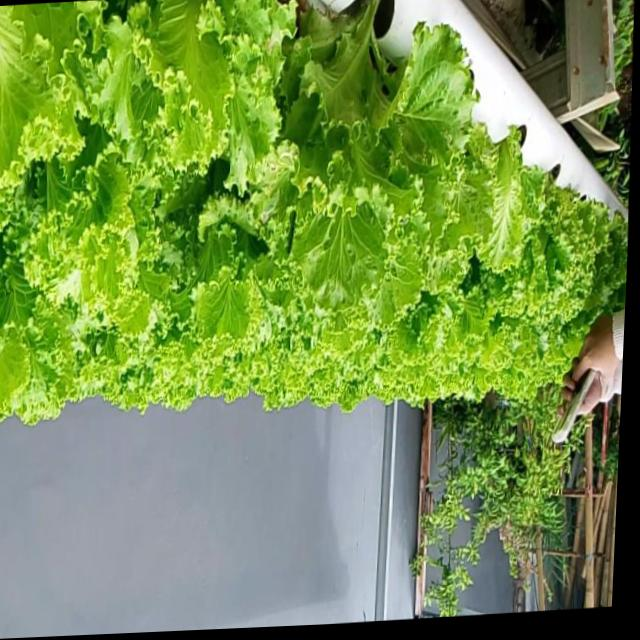Mature: (0, 0, 627, 426), (272, 2, 466, 300), (479, 145, 623, 356)
